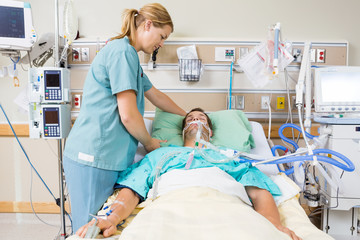Nurse: (124, 3, 173, 124)
patient: (176, 107, 225, 178)
